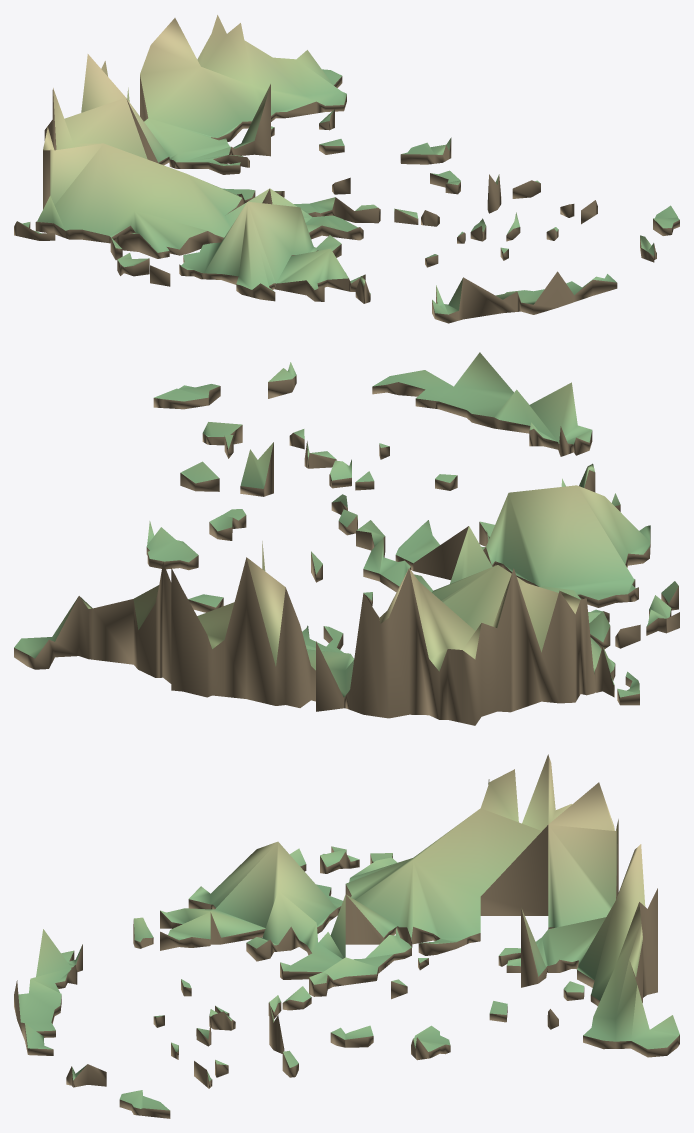
Rendered from GRC.glb.
The picture shows the model from 3 angles, top to bottom: view 1: azimuth 30°, elevation 25°; view 2: azimuth 150°, elevation 25°; view 3: azimuth 270°, elevation 25°; orthographic projection. The views are drawn at different scales.
Visible parts, largest first — view 1: GRC; view 2: GRC; view 3: GRC.
Part boxes in pixels (x1,y1,x2,y2): GRC: (14,15,679,323); GRC: (14,352,679,725); GRC: (14,754,679,1118).
Bounding box in the file's own units: 1.61 × 0.338 × 1.62.
